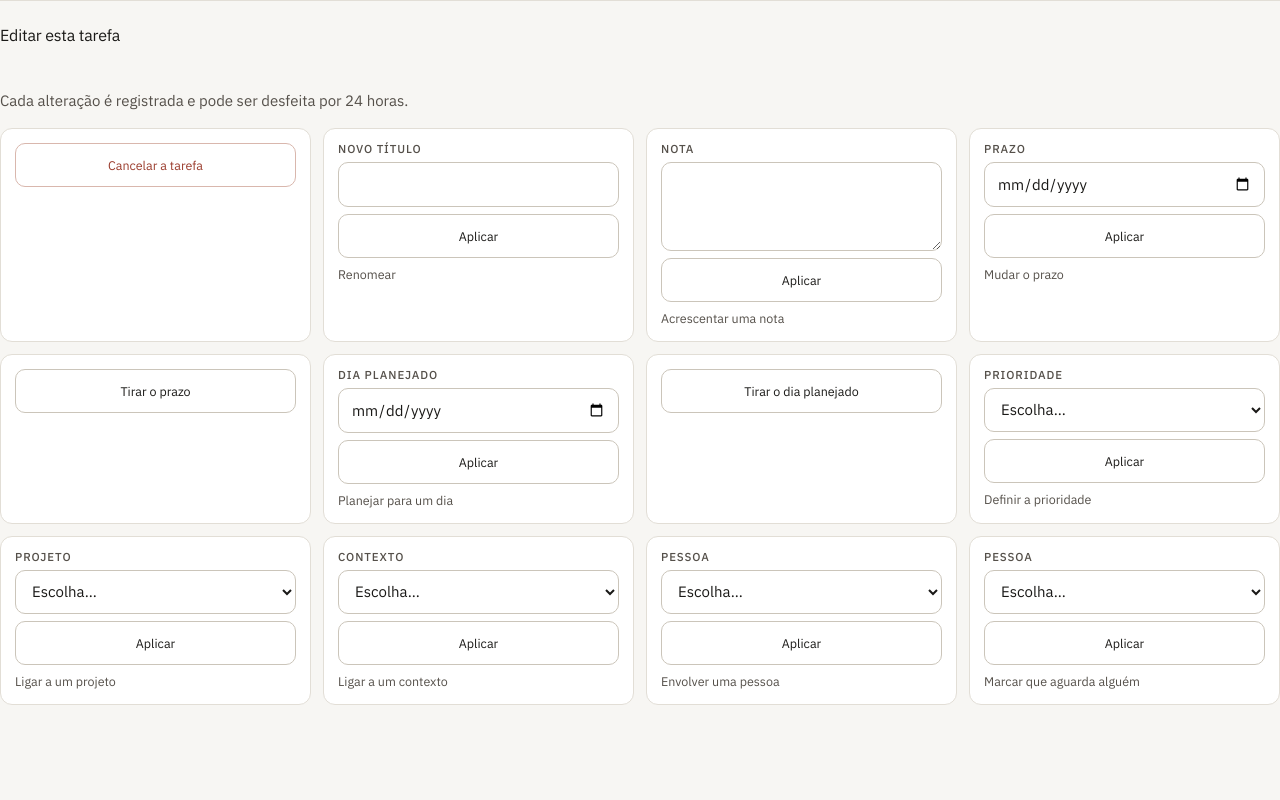
Test case: 2E-DESTRUCTIVE-003 — the dialog opens only after confirmation was issued › opens the dialog on the state the server returned, naming the task
Click the button "Cancelar a tarefa": (156, 165) [15,143,296,187]
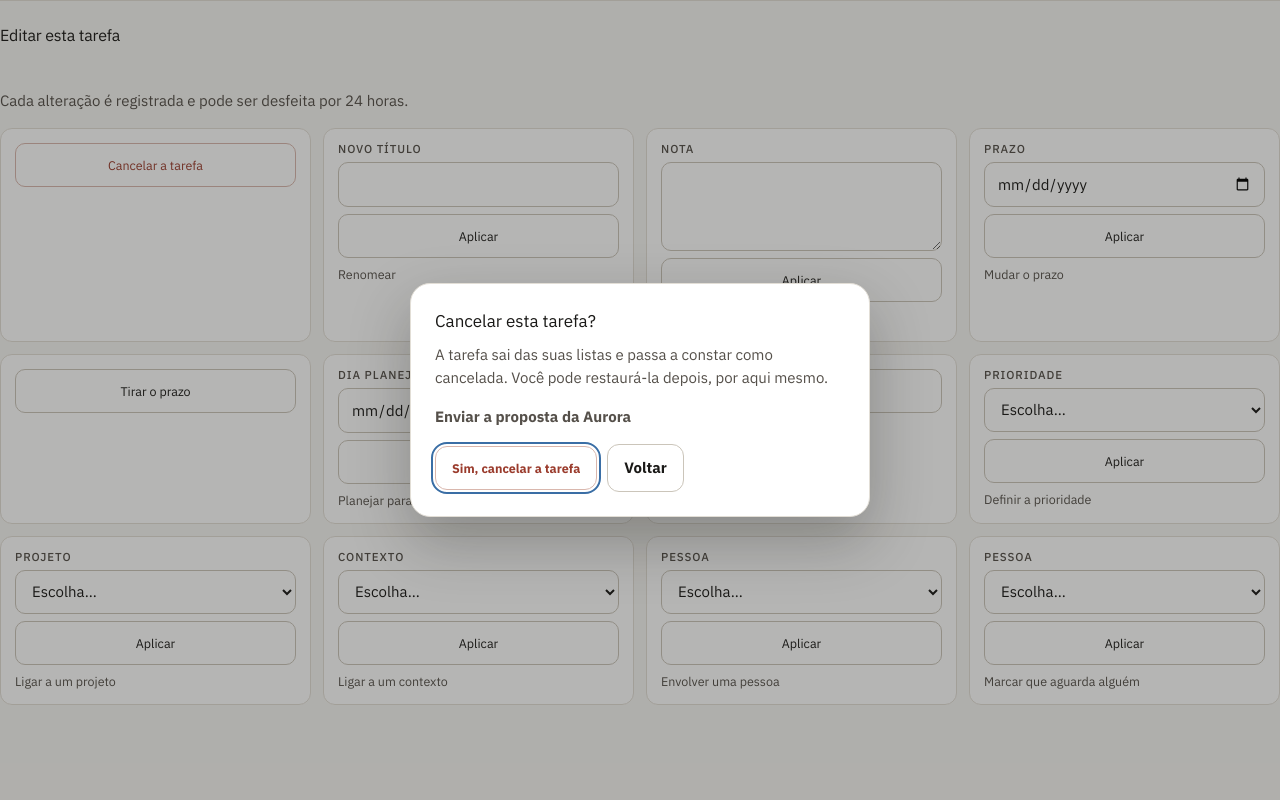
Now the heading "Cancelar esta tarefa?" is shown, box [435,310,596,332]
Now the text "Enviar a proposta da Aurora" is shown, box [435,407,631,426]
